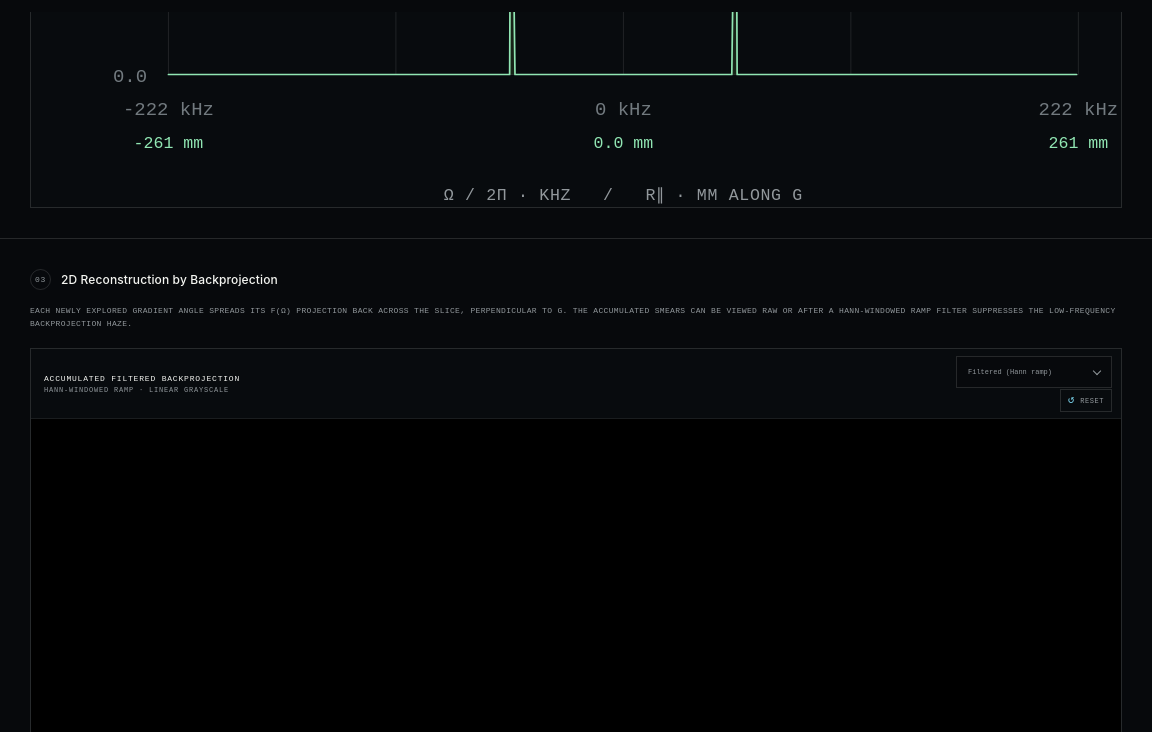
Scenario: GradientEncodingExperimentPanel › switches between the retained filtered and unfiltered reconstructions
(page scrolled)
Click the button with aria-label "Backprojection filter".
click(1034, 372)  # box [956,356,1112,388]
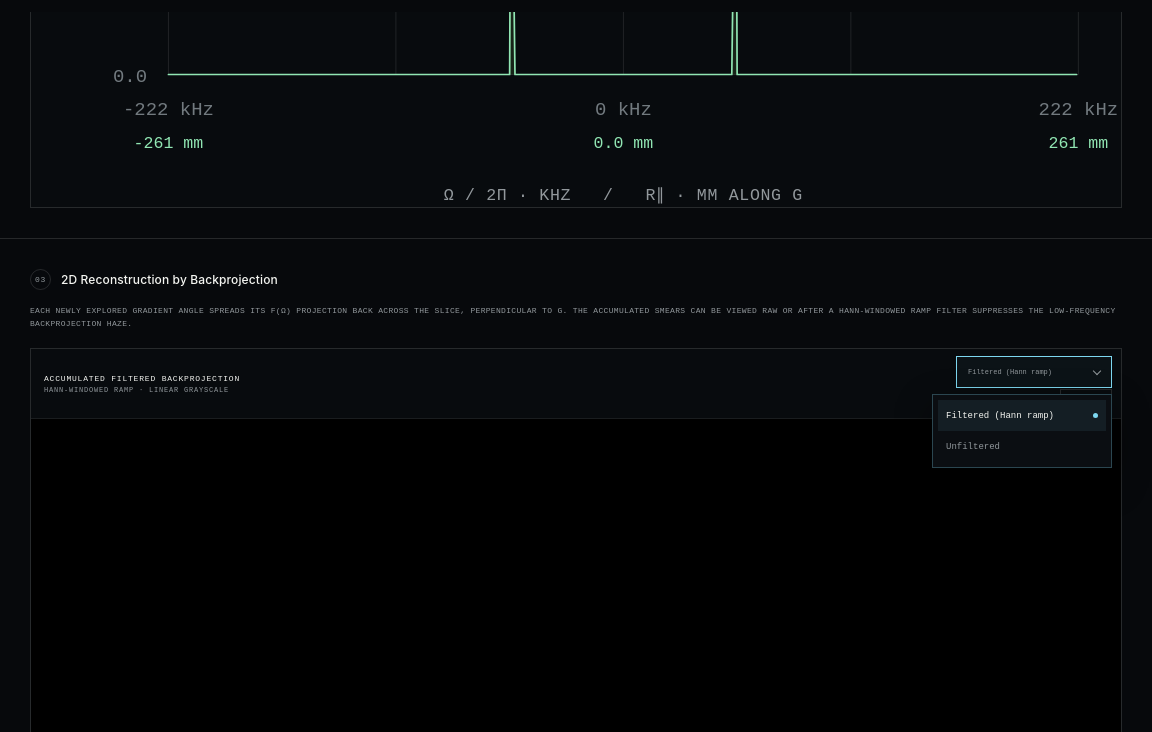
Click the option "Unfiltered".
click(1022, 447)  # box [938,431,1106,462]
(page scrolled)
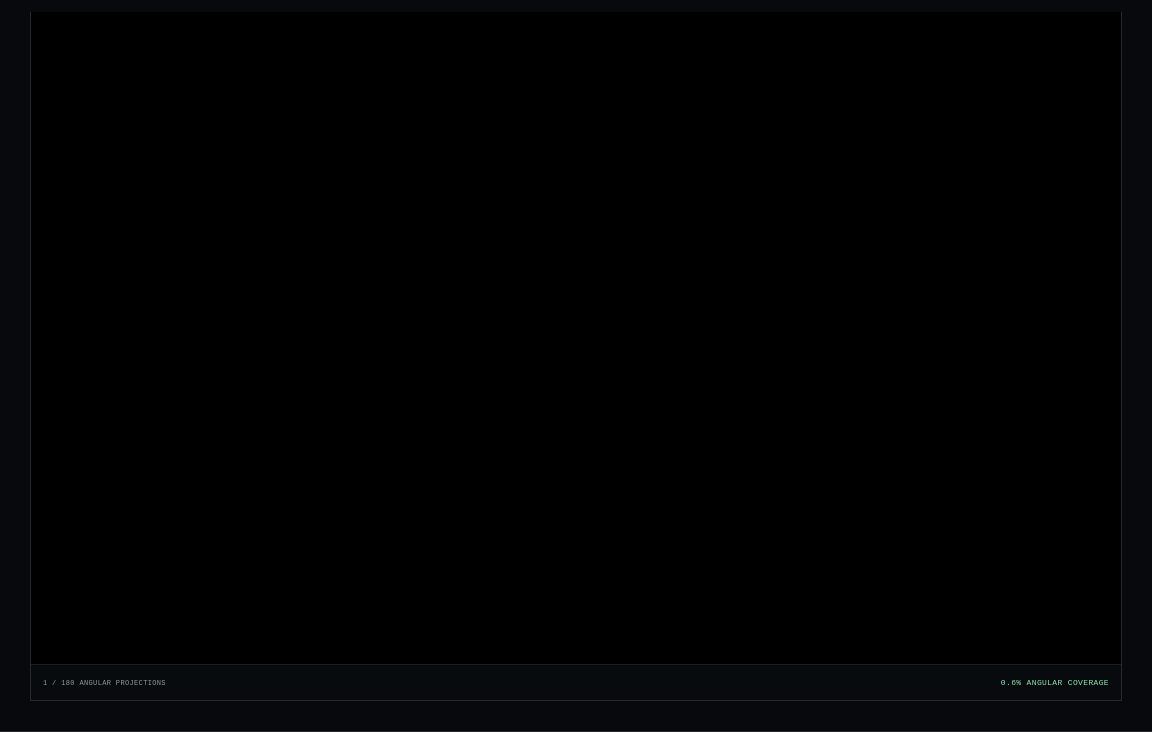
Check: the text "1 / 180 angular projections" is shown, box [43,679,166,687]
